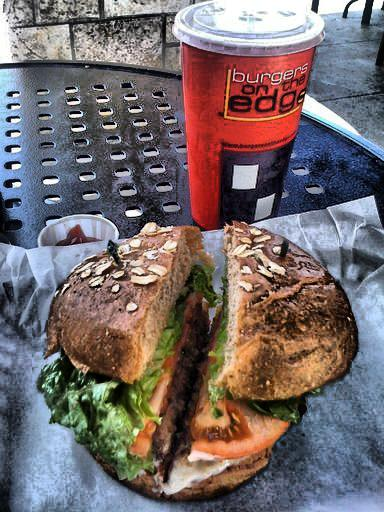burger: (58, 213, 345, 491)
